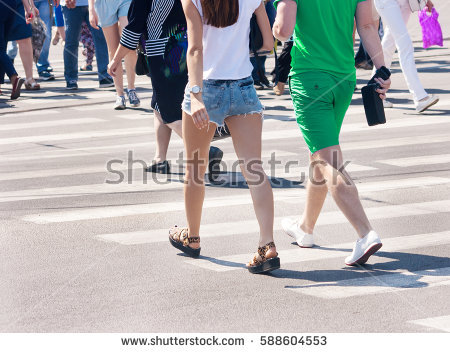pedestrian: (147, 1, 289, 277), (270, 1, 396, 266)
